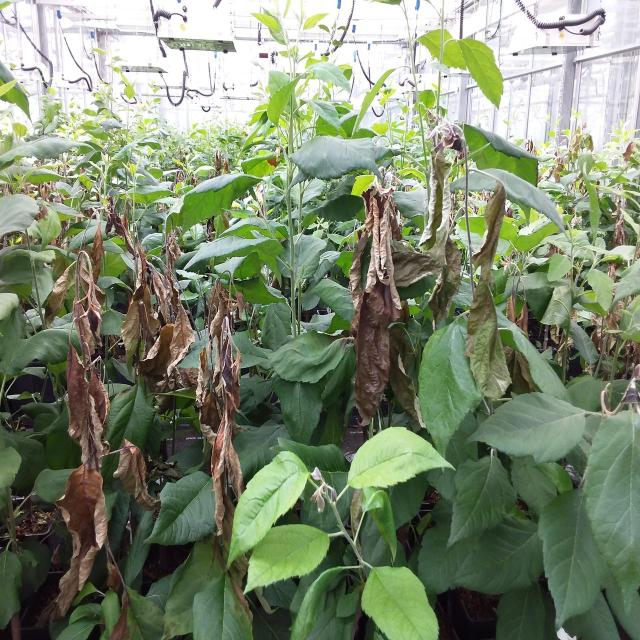-FireBlight-: (44, 205, 246, 640), (349, 185, 405, 427)
